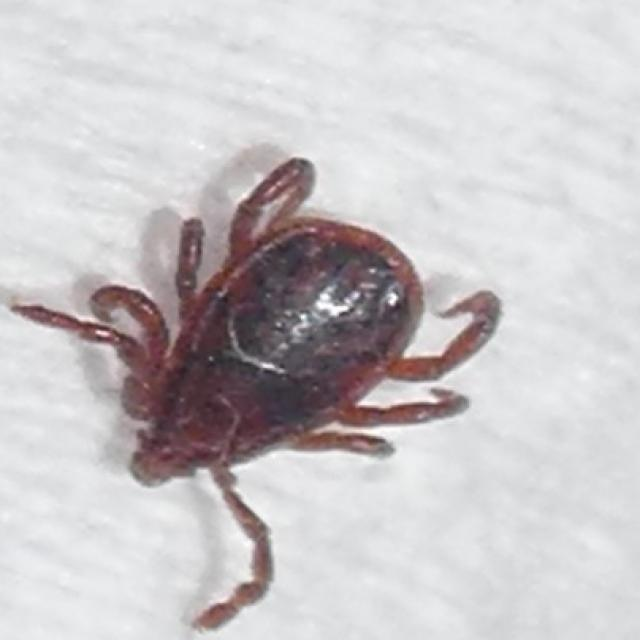Rhipicephalus Sanguineus-M: (11, 155, 502, 631)
